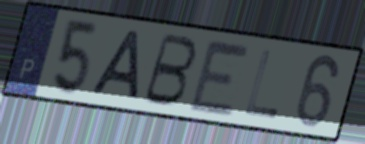5: (49, 18, 100, 98)
6: (294, 53, 341, 130)
A: (86, 28, 143, 103)
B: (139, 30, 200, 109)
E: (186, 36, 254, 120)
L: (242, 47, 281, 121)
